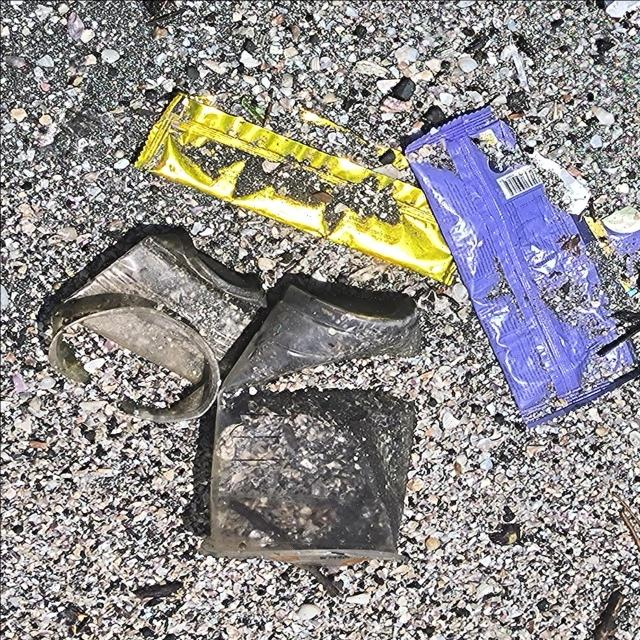plastic_waste: (402, 105, 640, 428), (134, 94, 458, 286), (205, 285, 423, 569), (48, 235, 268, 423)
